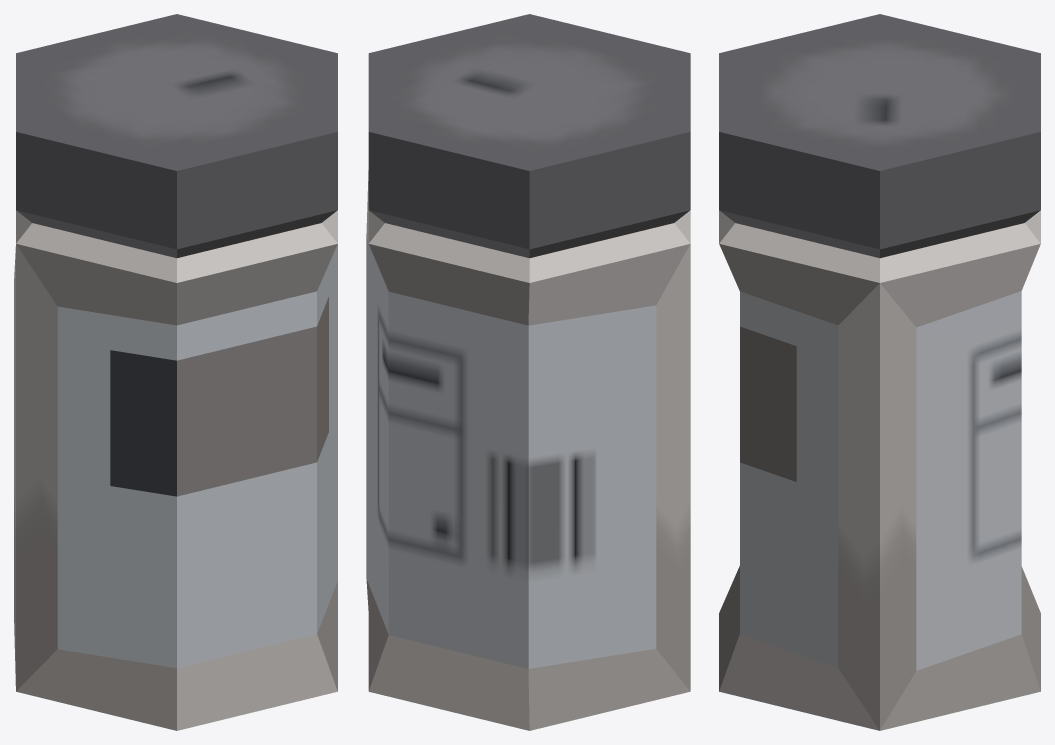
The model's file is SM_Prop_Pill_Bottle_01.fbx.
The picture shows the model from 3 angles, left to right: view 1: azimuth 30°, elevation 25°; view 2: azimuth 150°, elevation 25°; view 3: azimuth 270°, elevation 25°; orthographic projection.
Visible parts, largest first — view 1: SM_Prop_Pill_Bottle_01; view 2: SM_Prop_Pill_Bottle_01; view 3: SM_Prop_Pill_Bottle_01.
Part boxes in pixels (bbox=[...]): SM_Prop_Pill_Bottle_01: bbox=[14, 14, 337, 730]; SM_Prop_Pill_Bottle_01: bbox=[366, 14, 690, 730]; SM_Prop_Pill_Bottle_01: bbox=[719, 14, 1040, 730].
Size of the model in its own units: 7.22 by 12.01 by 6.26.
